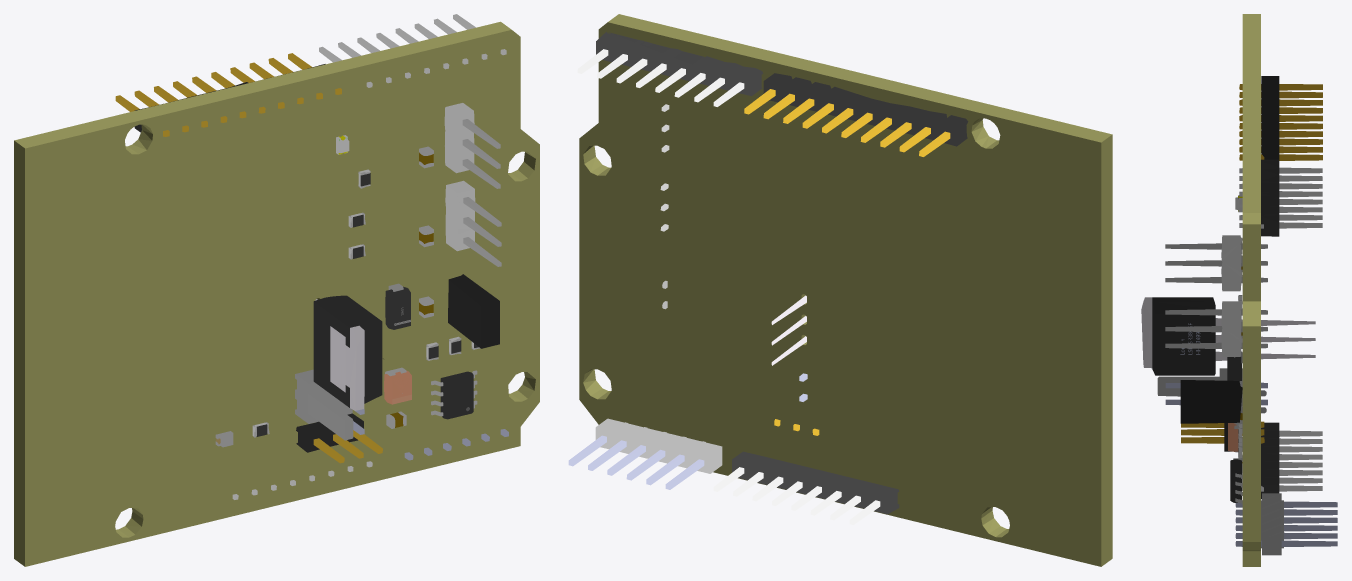
Rendered from OBJ_PCB_Arduino shield.obj.
The picture shows the model from 3 angles, left to right: view 1: azimuth 30°, elevation 25°; view 2: azimuth 150°, elevation 25°; view 3: azimuth 270°, elevation 25°; orthographic projection. The views are drawn at different scales.
Size of the model in its own units: 269 by 209 by 106.
